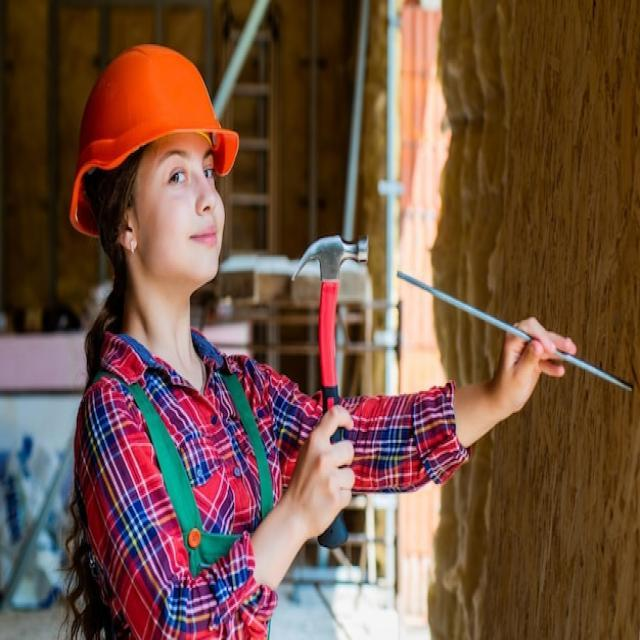hammer: (282, 226, 376, 556)
